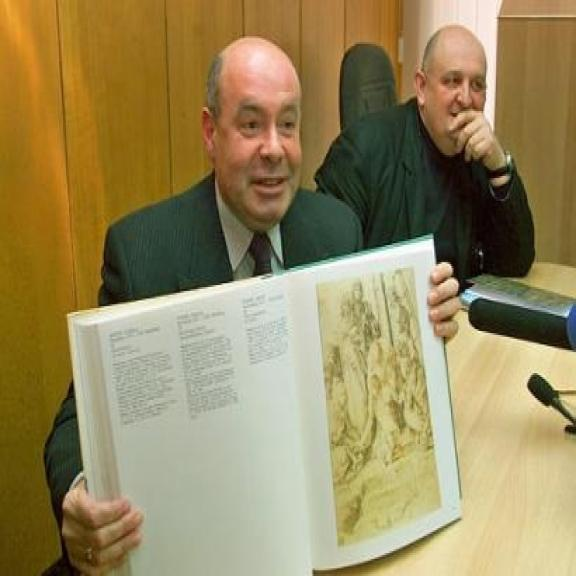face: (203, 77, 312, 228), (415, 42, 490, 162)
